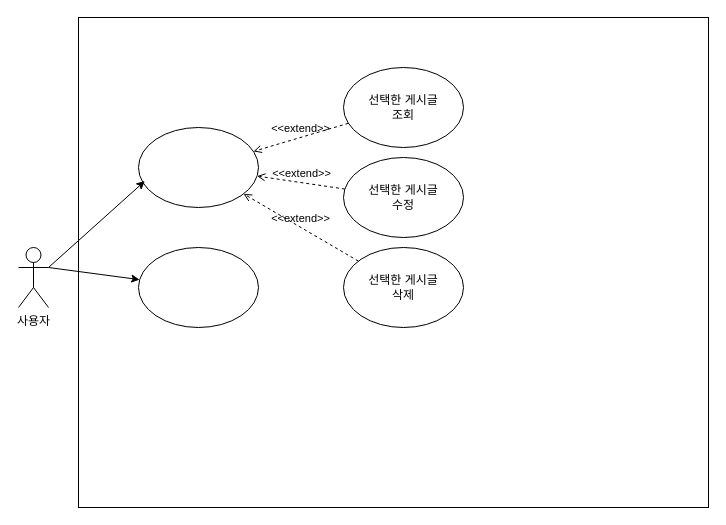
This 726x525 diagram has some shape labels left out. The shapes that lost their labels are listed below. From the top down, each one's box as (x1, y1, x2, y2) in pixels, then its label:
(138, 126, 258, 208): 전체 게시글 목록 조회
(138, 246, 258, 328): 게시글 작성
